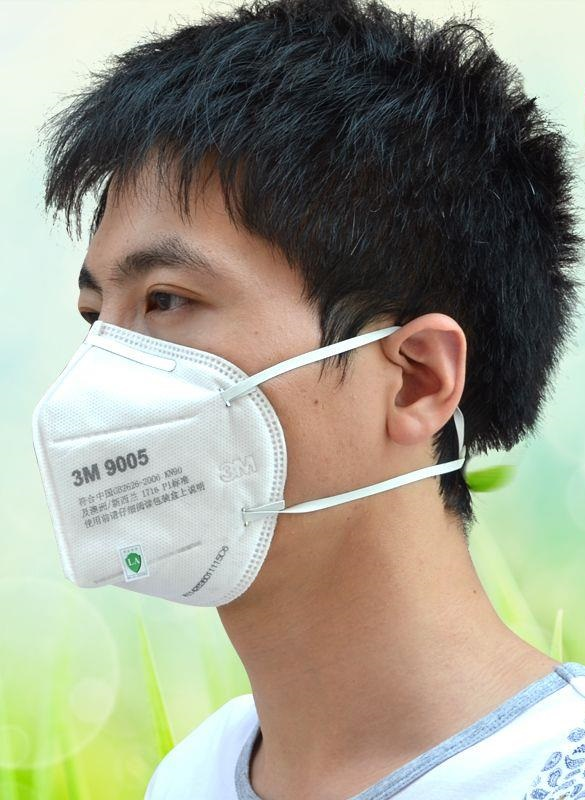face_mask: (70, 131, 344, 625)
